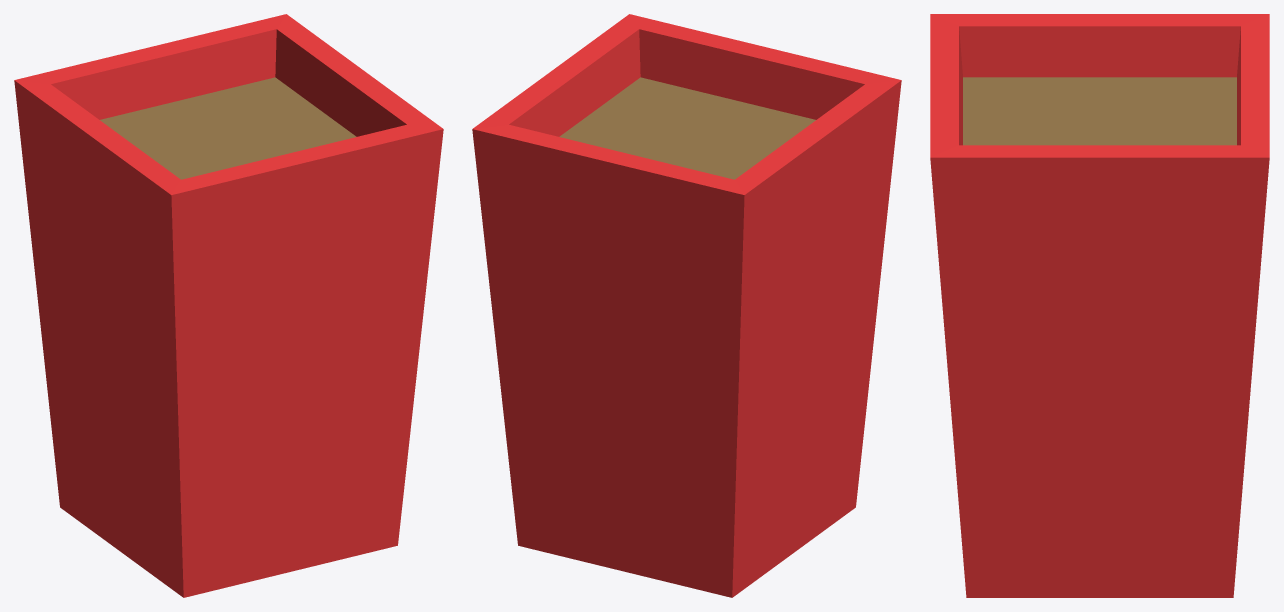
Rendered from Itr_Obj_Flowerpot1_Base_05.FBX.
3 views of the same model, side by side, from view 1: azimuth 30°, elevation 25°; view 2: azimuth 150°, elevation 25°; view 3: azimuth 270°, elevation 25° (orthographic). The views are drawn at different scales.
Parts seen in each view (by area): view 1: Itr_Obj_Flowerpot1_Base_05; view 2: Itr_Obj_Flowerpot1_Base_05; view 3: Itr_Obj_Flowerpot1_Base_05.
Boxes of the visible parts, box(x1,y1,x2,y2) form: Itr_Obj_Flowerpot1_Base_05: box(14, 14, 443, 597); Itr_Obj_Flowerpot1_Base_05: box(472, 14, 901, 597); Itr_Obj_Flowerpot1_Base_05: box(930, 14, 1269, 597).
Size of the model in its own units: 18.75 by 27.77 by 18.75.
